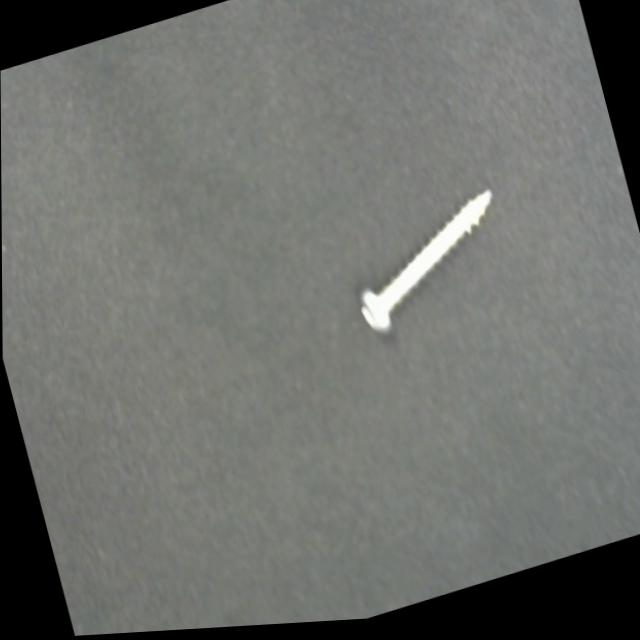SheetMetalScrew: (339, 188, 520, 345)
